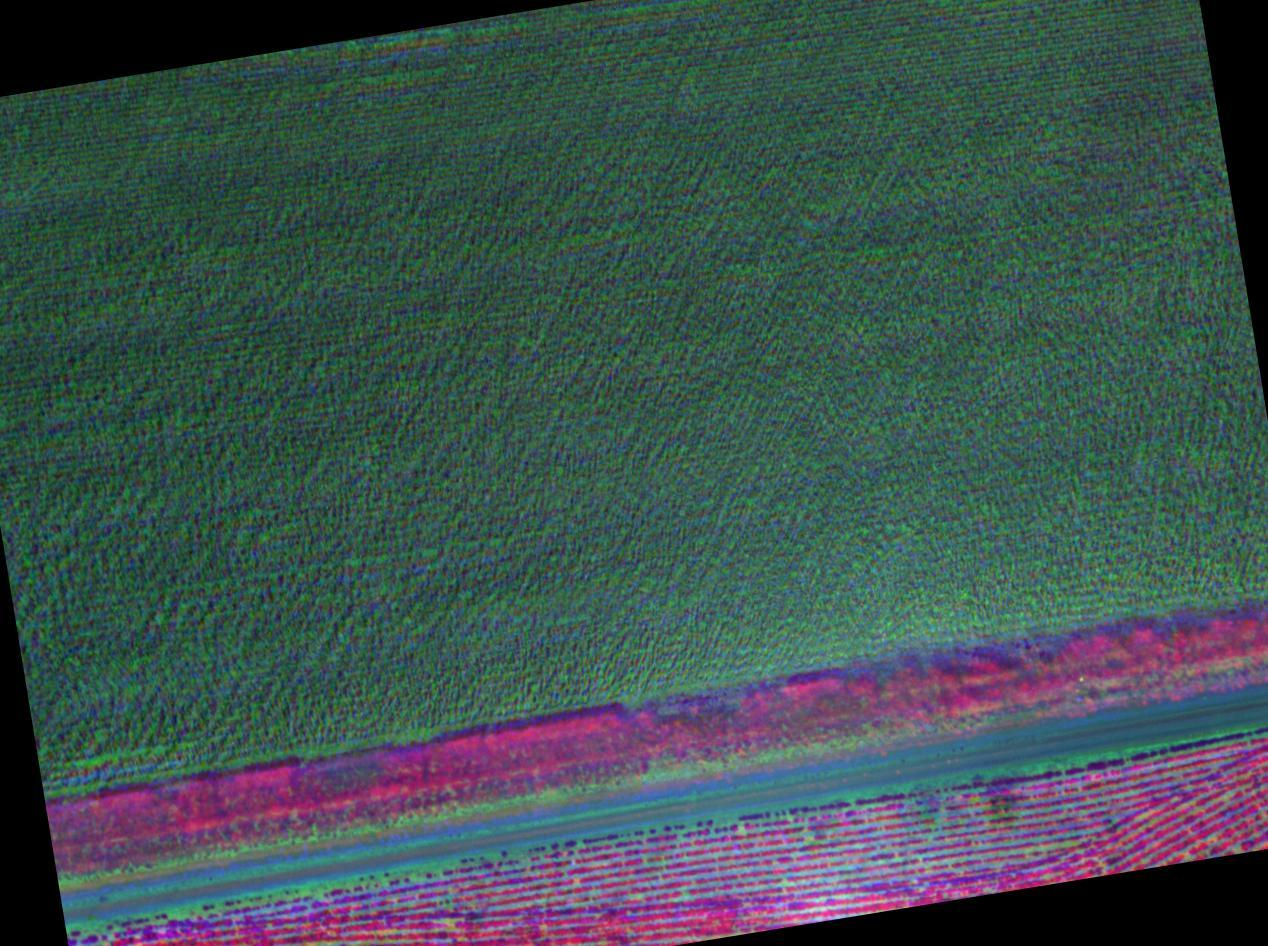dc: (957, 752, 1047, 844)
